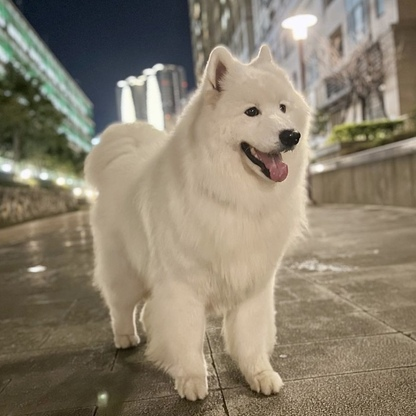samoyed: (73, 38, 323, 408)
